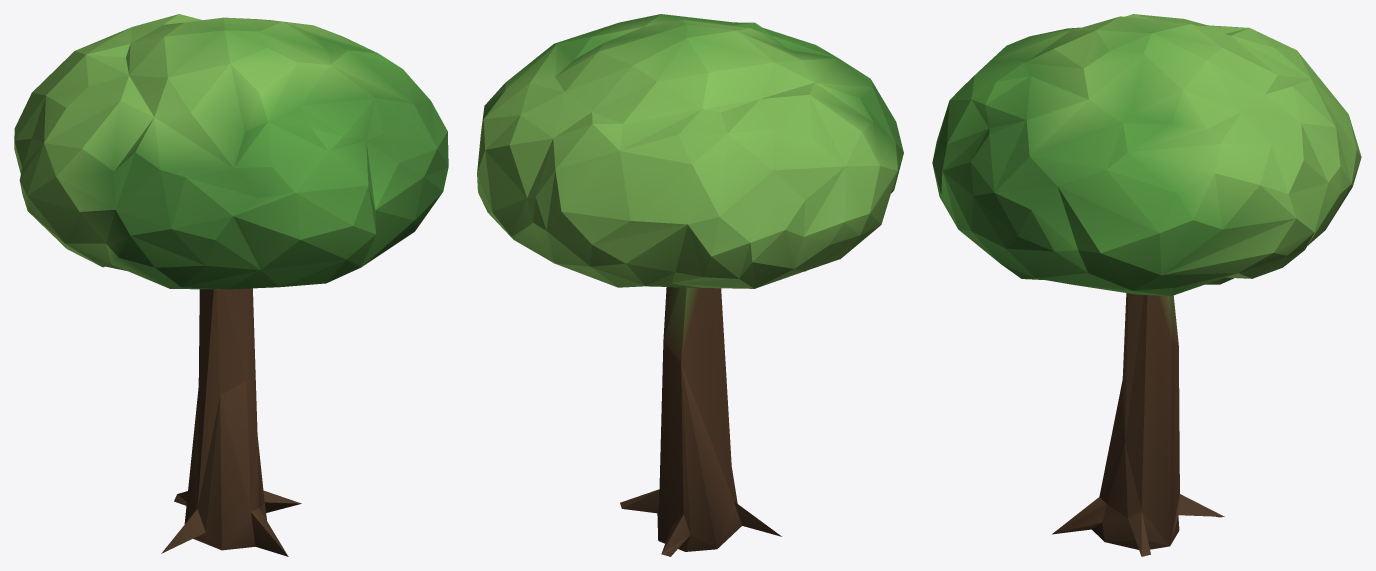
File: broadleaf_mature_continuous_dense_far.glb
The picture shows the model from 3 angles, left to right: view 1: azimuth 30°, elevation 25°; view 2: azimuth 150°, elevation 25°; view 3: azimuth 270°, elevation 25°; orthographic projection.
Parts seen in each view (by area): view 1: broadleaf_mature_continuous_dense_LOD3; view 2: broadleaf_mature_continuous_dense_LOD3; view 3: broadleaf_mature_continuous_dense_LOD3.
Part boxes in pixels (bbox=[...]): broadleaf_mature_continuous_dense_LOD3: bbox=[14, 14, 448, 556]; broadleaf_mature_continuous_dense_LOD3: bbox=[477, 14, 903, 556]; broadleaf_mature_continuous_dense_LOD3: bbox=[932, 14, 1361, 556].
Size of the model in its own units: 3.9 by 4.87 by 3.77.
